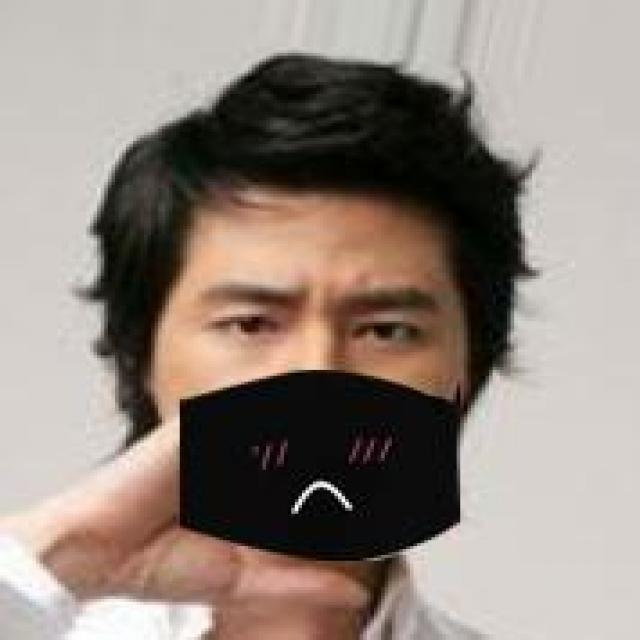mask: (76, 109, 586, 596)
